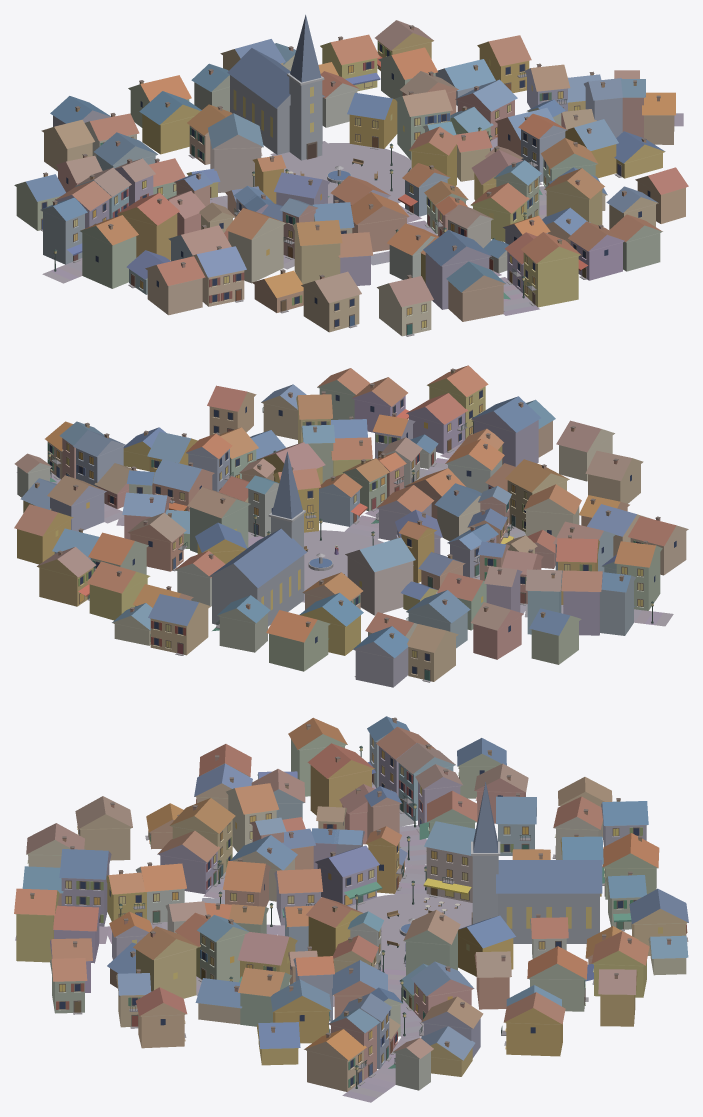
File: village.glb
3 views of the same model, one above another, from view 1: azimuth 30°, elevation 25°; view 2: azimuth 150°, elevation 25°; view 3: azimuth 270°, elevation 25° (orthographic). The views are drawn at different scales.
Parts seen in each view (by area): view 1: build, street, glow; view 2: build, street, glow; view 3: build, street, glow.
Part boxes in pixels (left/top/right/bottom): build: left=14, top=14, right=688, bottom=336; street: left=42, top=113, right=683, bottom=315; glow: left=54, top=59, right=579, bottom=327; build: left=14, top=365, right=688, bottom=687; street: left=16, top=443, right=673, bottom=626; glow: left=48, top=396, right=653, bottom=657; build: left=14, top=716, right=688, bottom=1091; street: left=15, top=785, right=472, bottom=1102; glow: left=59, top=738, right=662, bottom=1069.
Size of the model in its own units: 142 by 29.5 by 119.
